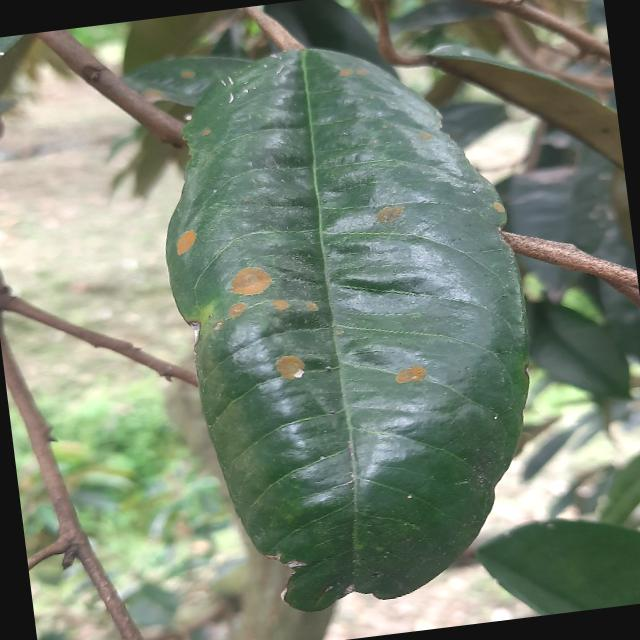Algal Leaf Spot: (132, 11, 568, 628)
